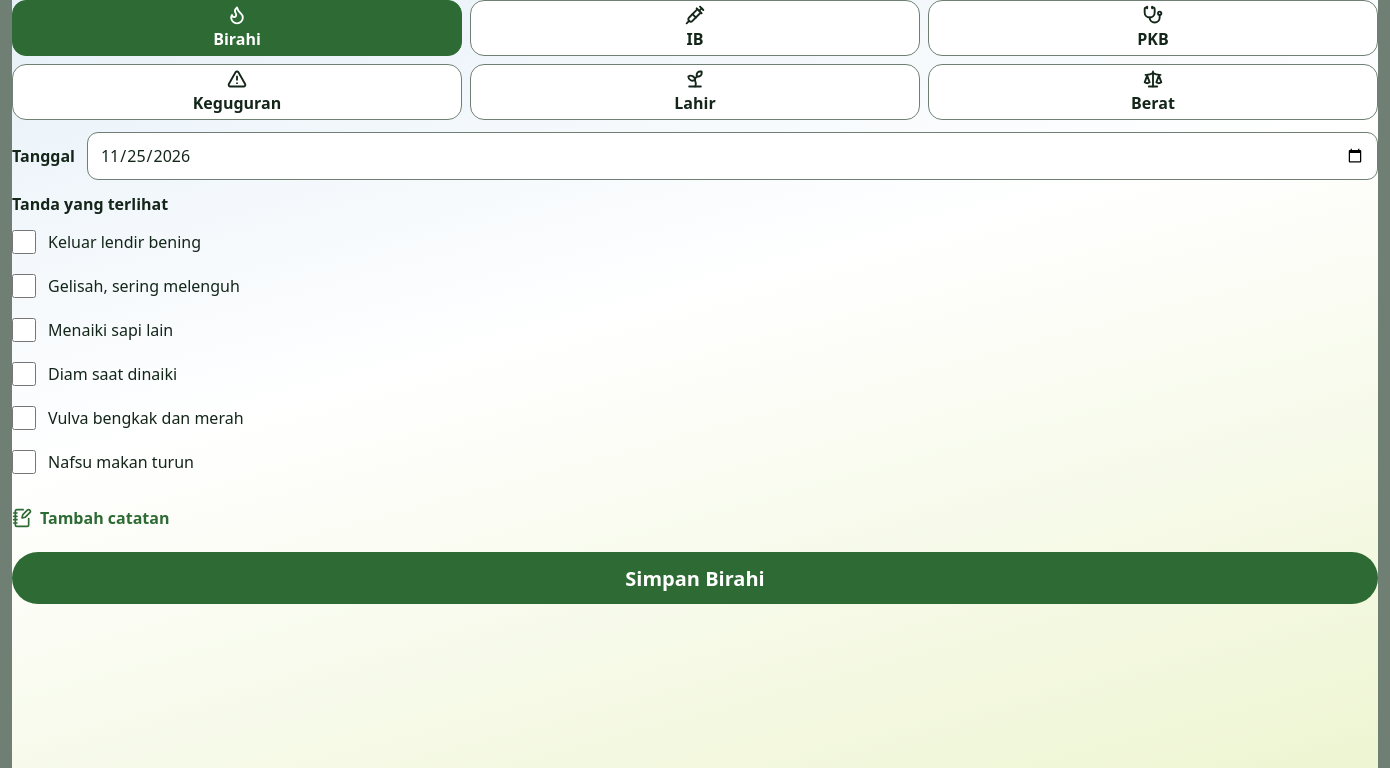
EventForm › IB lengkap: mengirim EventInput dengan tanggal hari ini (jam sekarang)
This screenshot has width=1390, height=768.
Click the radio button labelled "IB" at coordinates (695, 28), box [470,0,920,56]
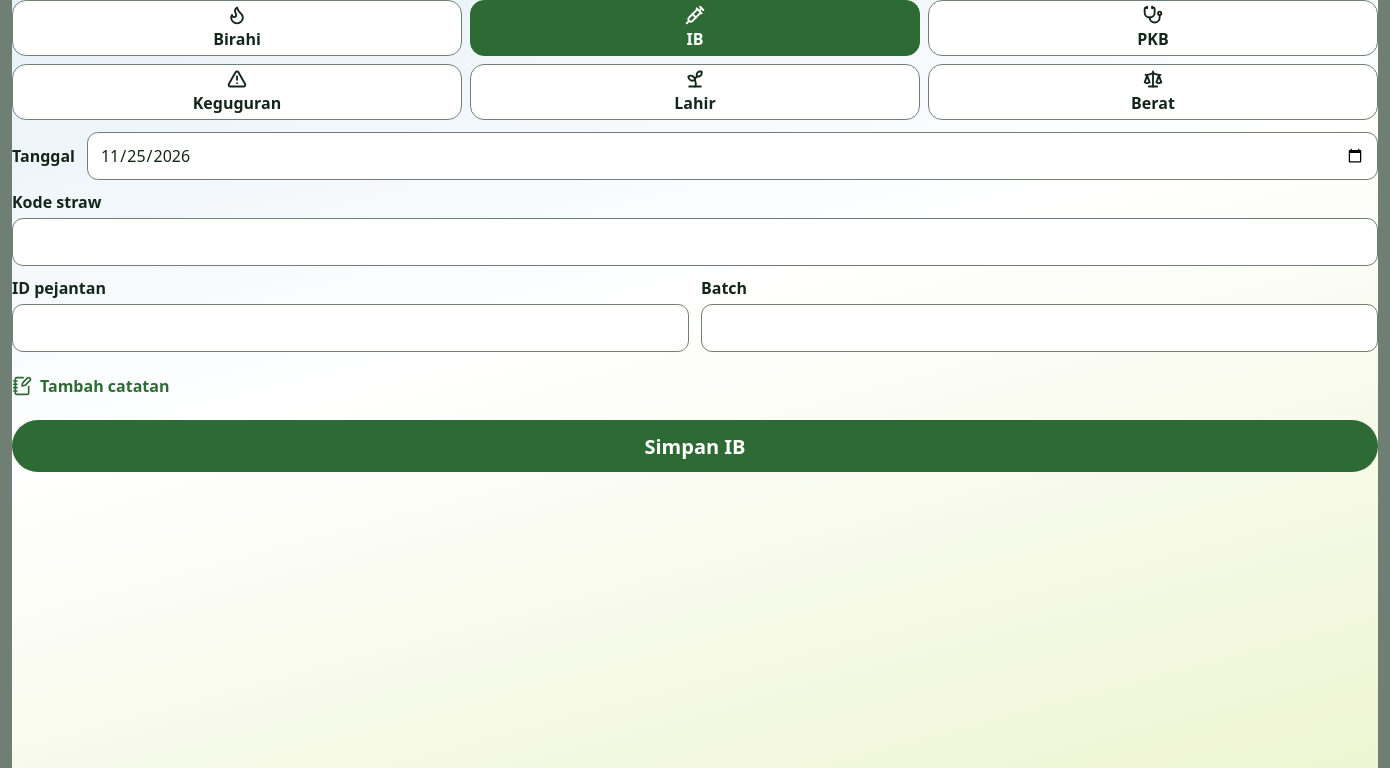
Type "SIM-1" into the field labelled "Kode straw" at coordinates (695, 242), box [12,218,1378,266]
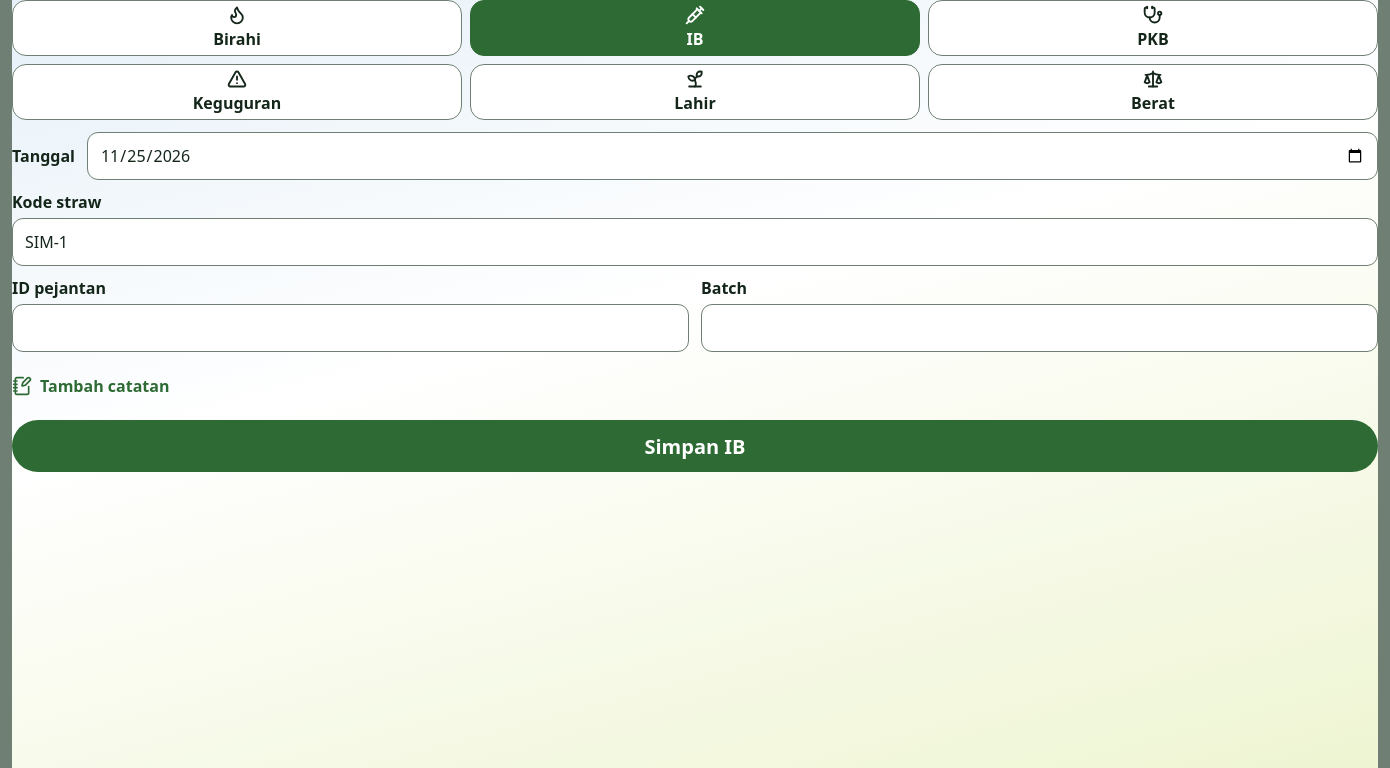
Type "BULL-7" into the field labelled "ID pejantan" at coordinates (350, 328), box [12,304,689,352]
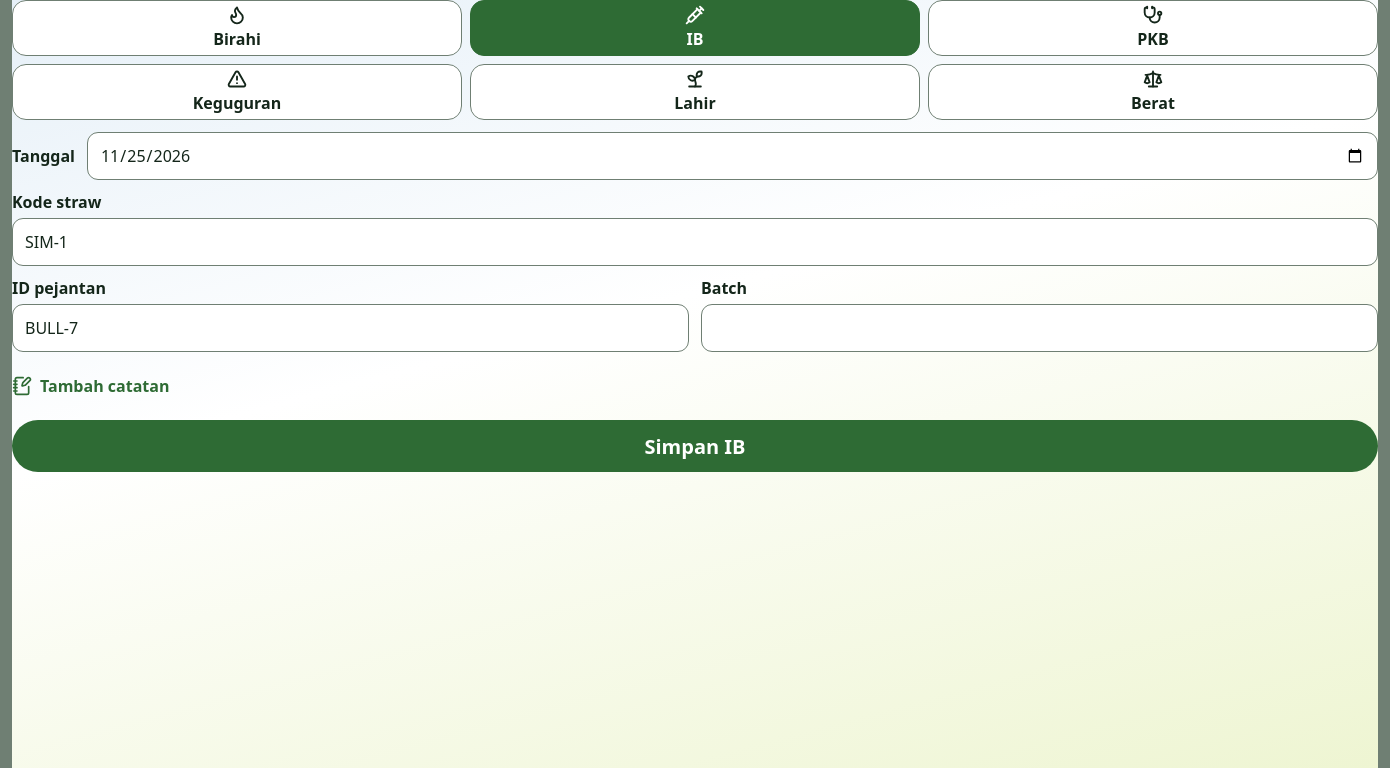
Type "B1" into the field labelled "Batch" at coordinates (1040, 328), box [701,304,1378,352]
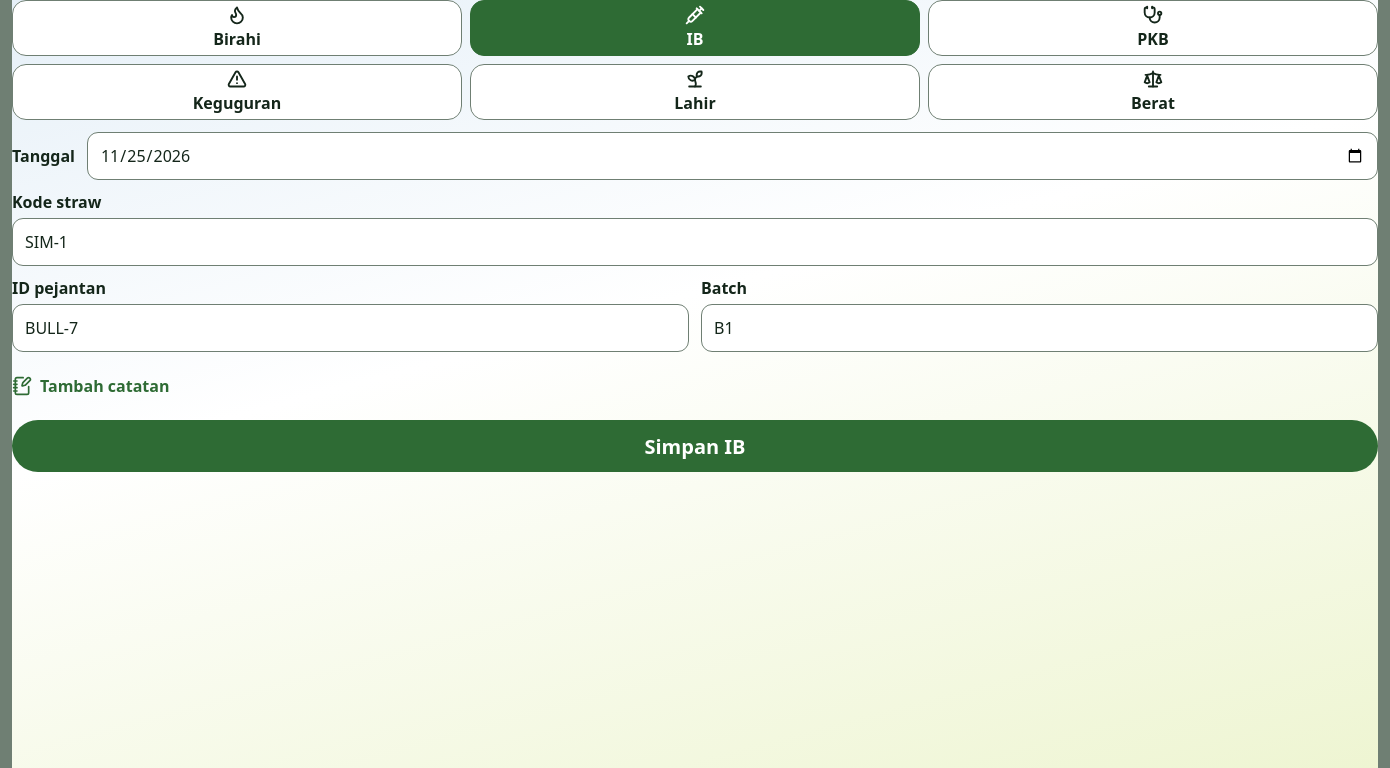
Click the button "Simpan IB" at coordinates (695, 446), box [12,420,1378,472]
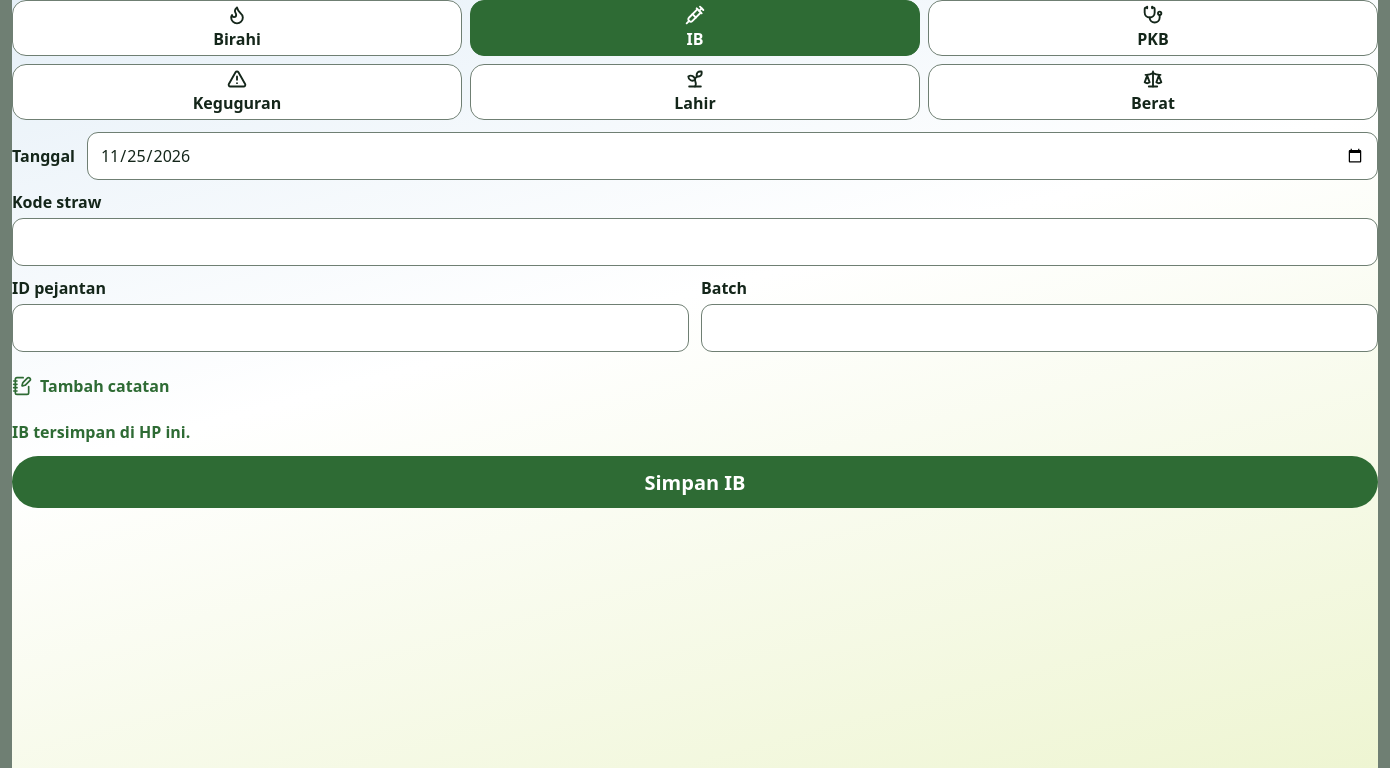
Now the text "IB tersimpan di HP ini." is shown, box [12,421,190,443]
